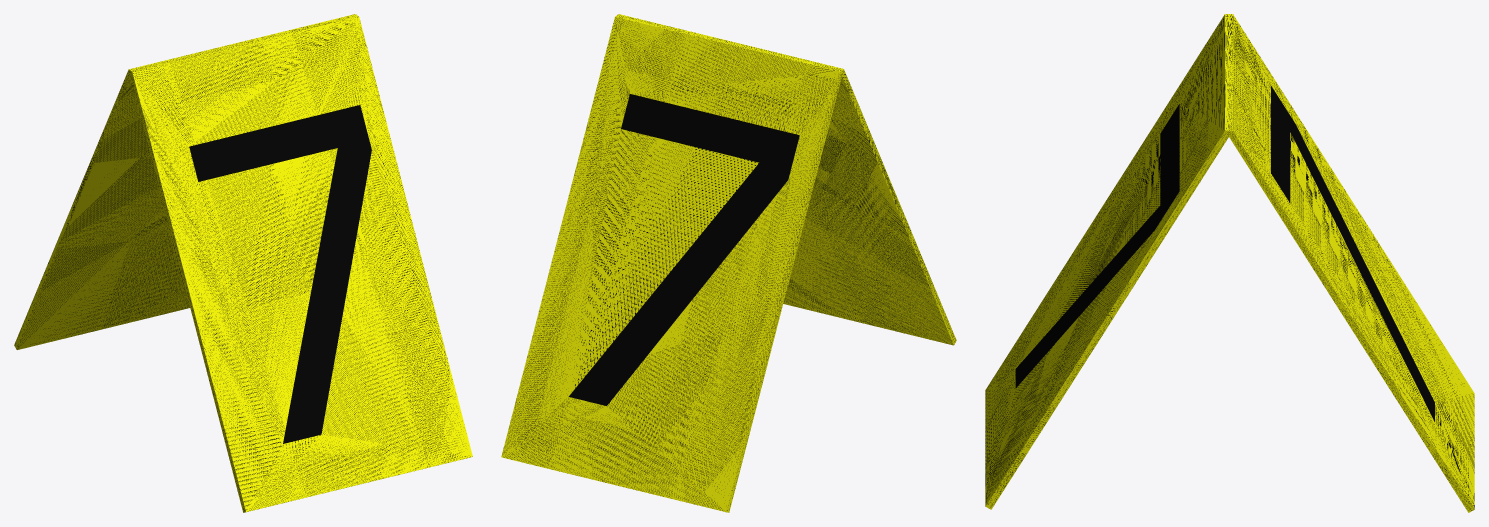
File: G_Seven.dae
The picture shows the model from 3 angles, left to right: view 1: azimuth 30°, elevation 25°; view 2: azimuth 150°, elevation 25°; view 3: azimuth 270°, elevation 25°; orthographic projection. The views are drawn at different scales.
Parts seen in each view (by area): view 1: skpBD44 (×2); view 2: skpBD44 (×2); view 3: skpBD44 (×3).
Boxes of the visible parts, <box> form: skpBD44 (×2): <box>14,14,472,512</box>; skpBD44 (×2): <box>501,14,956,512</box>; skpBD44 (×3): <box>985,14,1474,512</box>.
Bounding box in the file's own units: 4 × 7.09 × 6.11.
